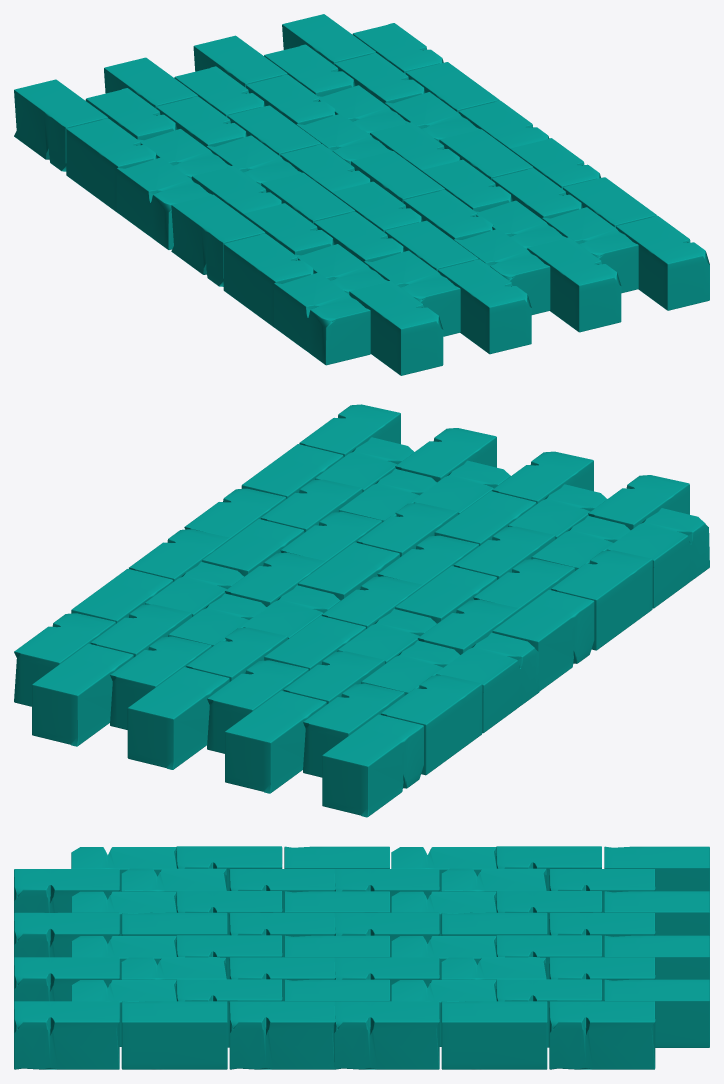
Rendered from SOL.fbx.
3 views of the same model, one above another, from view 1: azimuth 30°, elevation 25°; view 2: azimuth 150°, elevation 25°; view 3: azimuth 270°, elevation 25° (orthographic). The views are drawn at different scales.
Visible parts, largest first — view 1: pCube232, pCube179, pCube185, pCube175, pCube171, pCube234, pCube233, pCube235, pCube236, pCube231, pCube173, pCube182 (+36 smaller); view 2: pCube236, pCube165, pCube153, pCube160, pCube235, pCube233, pCube231, pCube232, pCube234, pCube161, pCube150, pCube157 (+36 smaller); view 3: pCube170, pCube149, pCube150, pCube185, pCube151, pCube169, pCube153, pCube175, pCube171, pCube179, pCube236, pCube165 (+36 smaller).
Boxes of the visible parts, <box> form: pCube232: <box>273,272,370,365</box>; pCube179: <box>349,280,443,375</box>; pCube185: <box>616,215,709,310</box>; pCube175: <box>437,259,531,354</box>; pCube171: <box>527,237,621,332</box>; pCube234: <box>116,157,211,249</box>; pCube233: <box>223,233,314,327</box>; pCube235: <box>66,118,156,212</box>; pCube236: <box>14,79,107,171</box>; pCube231: <box>171,194,265,286</box>; pCube173: <box>454,229,550,314</box>; pCube182: <box>363,250,460,336</box>; pCube236: <box>322,714,423,817</box>; pCube165: <box>127,667,229,769</box>; pCube153: <box>32,643,133,746</box>; pCube160: <box>225,690,326,793</box>; pCube235: <box>380,675,482,775</box>; pCube233: <box>551,550,652,650</box>; pCube231: <box>492,589,594,690</box>; pCube232: <box>606,508,709,608</box>; pCube234: <box>436,632,539,733</box>; pCube161: <box>303,683,404,777</box>; pCube150: <box>14,613,115,706</box>; pCube157: <box>207,660,308,753</box>; pCube170: <box>121,1001,227,1069</box>; pCube149: <box>441,1001,547,1069</box>; pCube150: <box>549,1001,655,1069</box>; pCube185: <box>14,1001,119,1069</box>; pCube151: <box>334,1001,439,1069</box>; pCube169: <box>229,1001,335,1069</box>; pCube153: <box>604,979,709,1047</box>; pCube175: <box>14,912,119,957</box>; pCube171: <box>14,957,119,1001</box>; pCube179: <box>14,869,119,913</box>; pCube236: <box>604,846,709,891</box>; pCube165: <box>604,935,709,979</box>.
Size of the model in its own units: 18.17 by 2.31 by 30.23.
